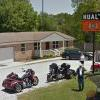Motorcycle: (42, 58, 75, 84)
